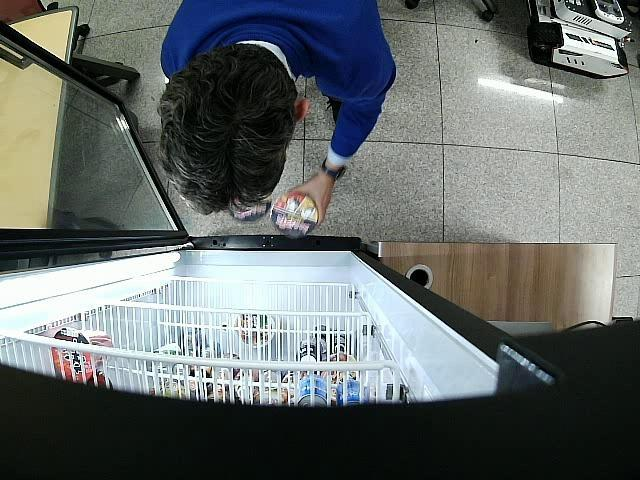07_buldak_L: (270, 194, 318, 236)
